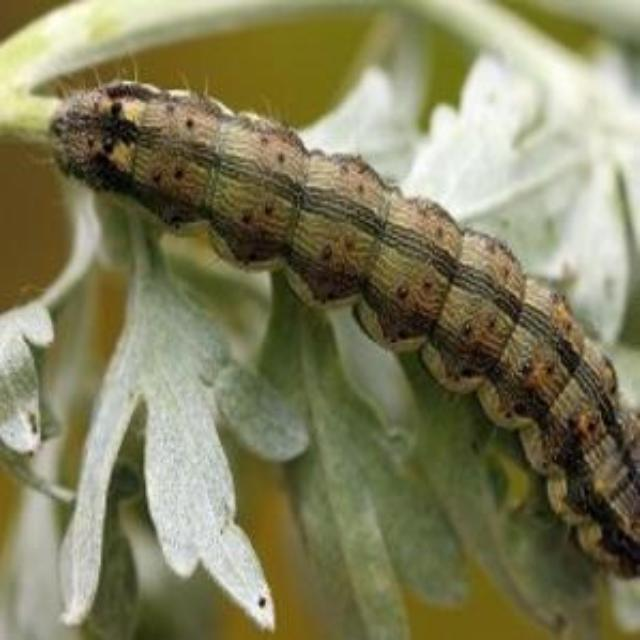Cotton bollworm: (36, 48, 640, 602)
